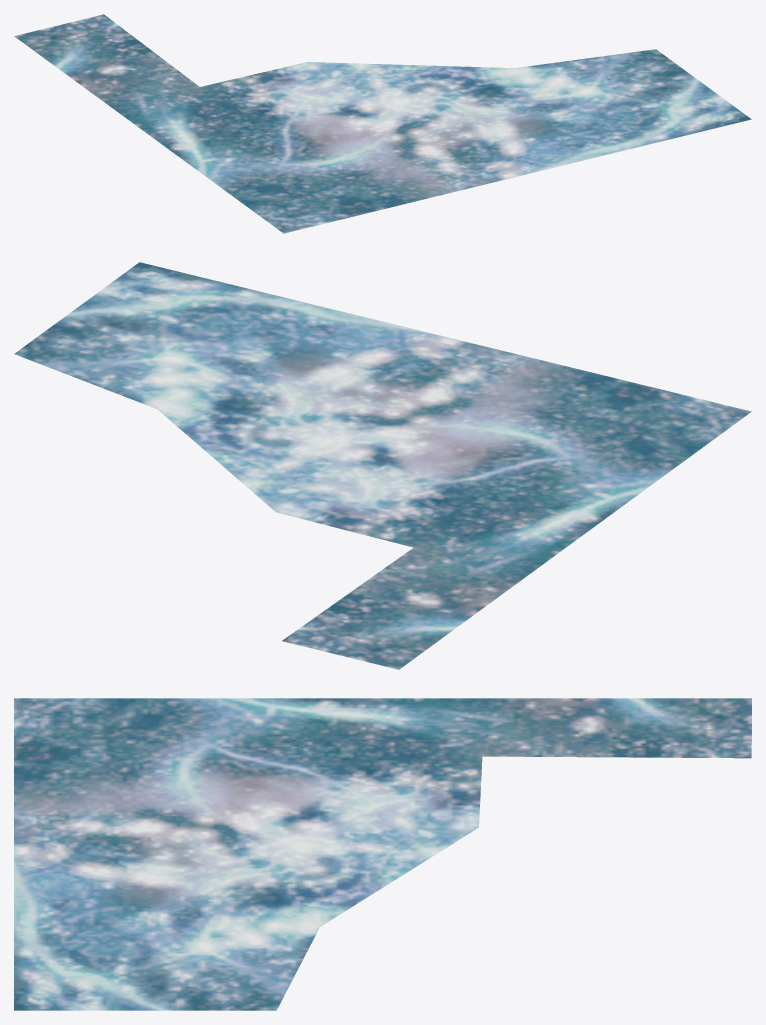
Rendered from 5011_Item_haishui_01.FBX.
3 views of the same model, one above another, from view 1: azimuth 30°, elevation 25°; view 2: azimuth 150°, elevation 25°; view 3: azimuth 270°, elevation 25° (orthographic). The views are drawn at different scales.
Visible parts, largest first — view 1: 5010_Item_haishui_01; view 2: 5010_Item_haishui_01; view 3: 5010_Item_haishui_01.
Part boxes in pixels (x1,y1,x2,y2): 5010_Item_haishui_01: [14, 14, 751, 233]; 5010_Item_haishui_01: [14, 262, 751, 669]; 5010_Item_haishui_01: [14, 698, 751, 1010].
Size of the model in its own units: 12037 by 0.00179 by 12012.
